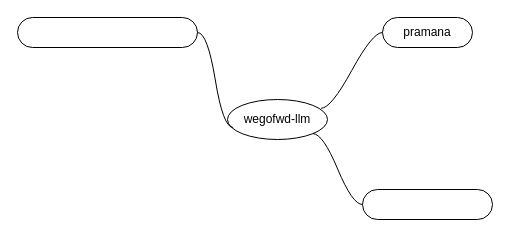
Some shapes in this 510 by 237 pixel diagram are drawn without their labels. Here are the shapes that lost their labels. From the top down, the centre of each, then its label:
At point (107, 32): "StudyBuddy_SelfLearner".
At point (427, 204): "kathai-chithiram".
